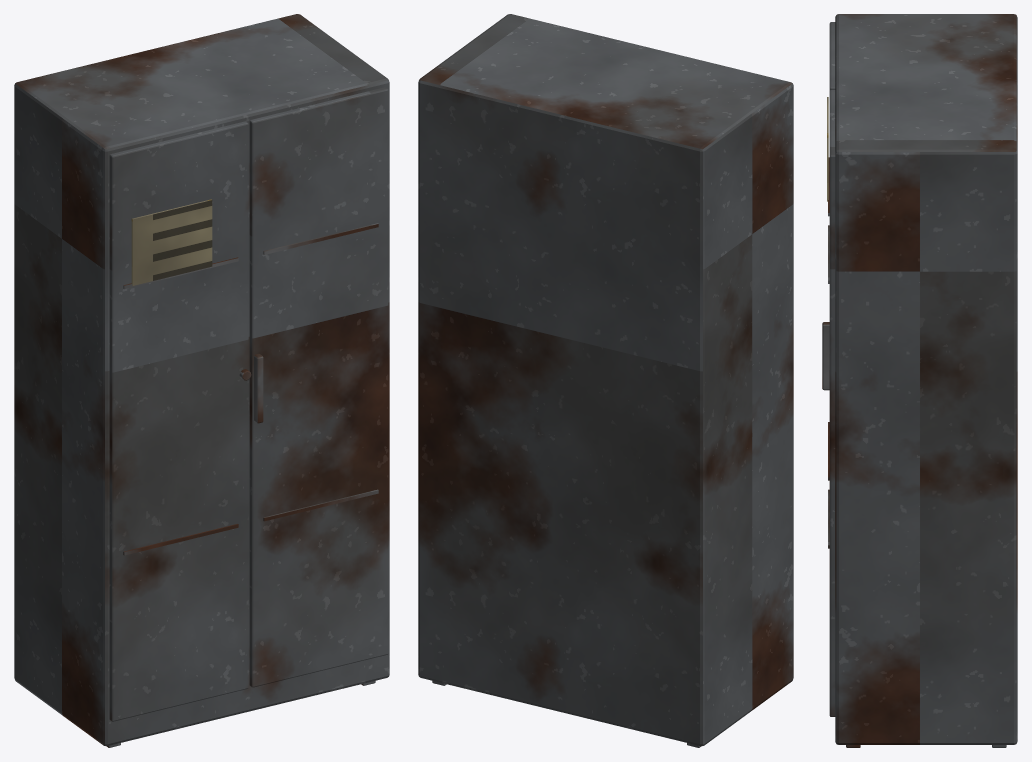
File: L12_steel_almirah.glb
The picture shows the model from 3 angles, left to right: view 1: azimuth 30°, elevation 25°; view 2: azimuth 150°, elevation 25°; view 3: azimuth 270°, elevation 25°; orthographic projection.
Parts seen in each view (by area): view 1: L12_steel_almirah; view 2: L12_steel_almirah; view 3: L12_steel_almirah.
Boxes of the visible parts, x1,y1,x2,y2 form: L12_steel_almirah: (14,14,389,747); L12_steel_almirah: (418,14,793,747); L12_steel_almirah: (822,14,1017,747).
Bounding box in the file's own units: 0.8901 × 1.8 × 0.5291.
Materials: 3 (3 with a texture image).
